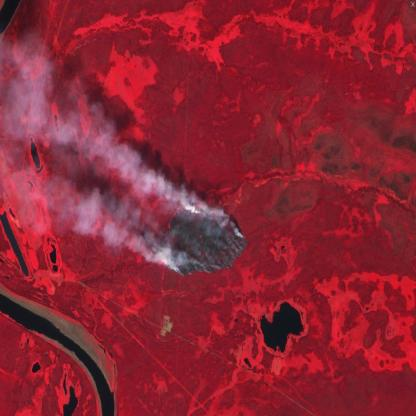fire: (155, 198, 250, 286)
